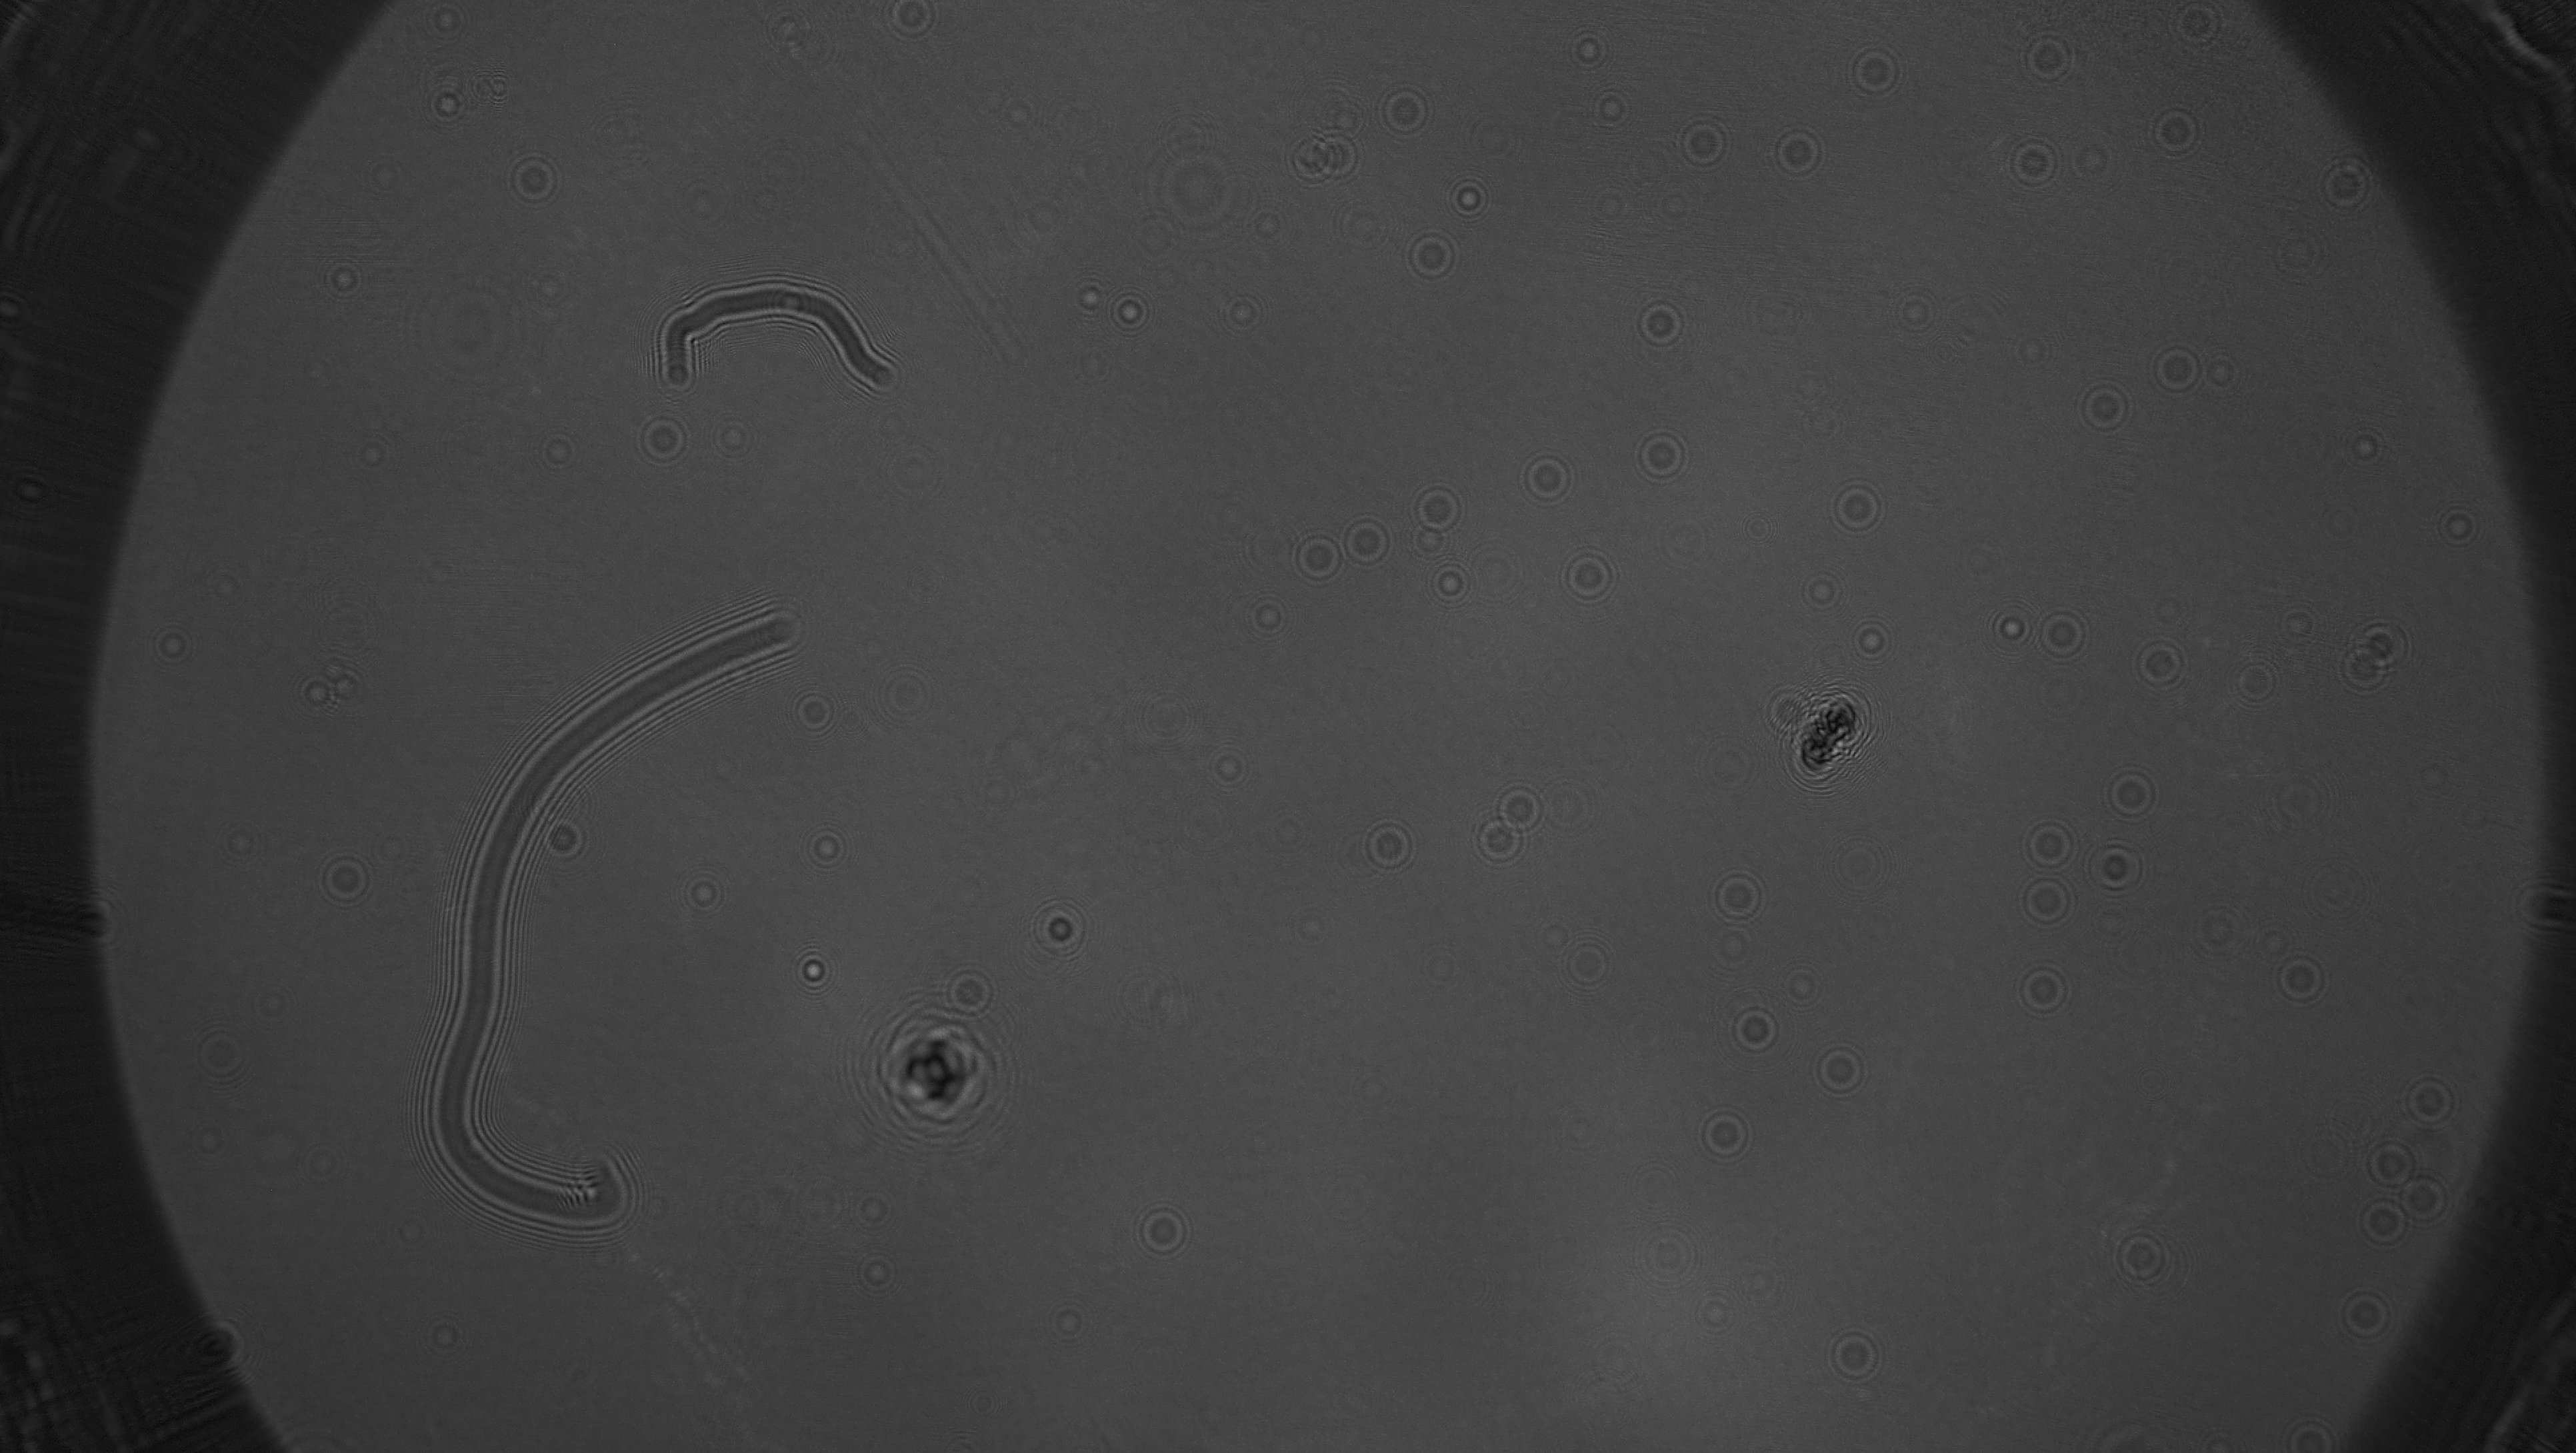bead: (2105, 1218, 2176, 1290), (1125, 1195, 1196, 1265), (2012, 869, 2084, 938), (2344, 611, 2417, 680), (2332, 1280, 2401, 1352), (2143, 334, 2212, 405), (2070, 372, 2137, 444), (2079, 835, 2151, 903), (499, 145, 568, 214), (2266, 943, 2335, 1012), (311, 844, 380, 913), (2351, 1188, 2419, 1258), (2028, 598, 2095, 667), (2125, 628, 2192, 697), (2396, 1067, 2465, 1134), (2387, 1166, 2456, 1234), (2312, 150, 2378, 221), (2010, 956, 2075, 1026), (2358, 1131, 2424, 1202), (1706, 862, 1771, 933), (2097, 759, 2164, 826), (1806, 1037, 1874, 1104), (1276, 124, 1341, 193), (1371, 76, 1437, 145), (1670, 111, 1736, 181), (1514, 442, 1580, 511), (1488, 775, 1553, 844), (1844, 37, 1907, 108), (632, 405, 697, 473), (1629, 421, 1695, 488), (2330, 634, 2397, 699), (2015, 812, 2082, 878), (1357, 812, 1422, 880), (2146, 96, 2210, 165), (1336, 508, 1399, 577), (1822, 1320, 1886, 1389), (1693, 1101, 1757, 1170), (938, 957, 1001, 1026), (1407, 473, 1468, 543), (1399, 225, 1465, 290), (2015, 27, 2081, 92), (1555, 543, 1621, 609), (1766, 119, 1829, 186), (2001, 129, 2065, 196), (1304, 126, 1369, 189), (1824, 476, 1890, 540), (1467, 809, 1532, 873), (1759, 676, 1821, 743), (1629, 290, 1691, 356), (1288, 526, 1348, 591), (2160, 2, 2231, 57), (2279, 1405, 2346, 1453), (878, 0, 943, 44)
